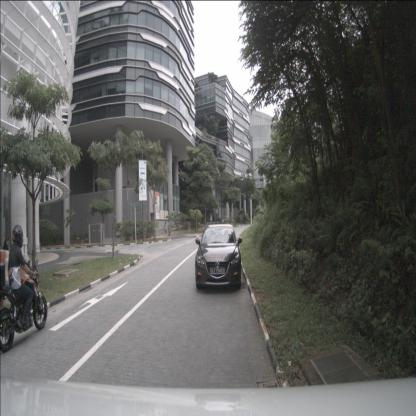human-pedestrian-adult: (3, 238, 10, 269), (165, 221, 167, 234)
vehicle-car: (195, 223, 241, 290)
vehicle-motorcycle: (0, 224, 48, 353)
